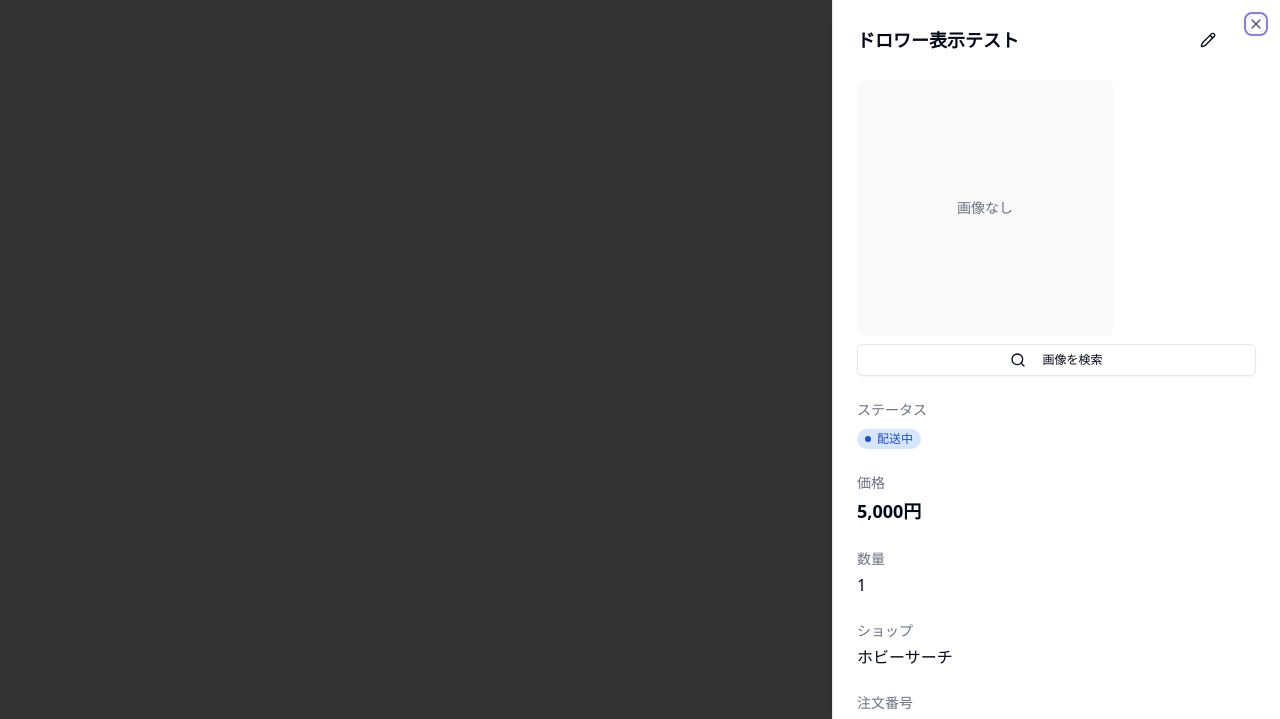
OrderItemDrawer › handleExclude › opens exclude confirmation dialog when exclude button is clicked
The image size is (1280, 719).
Click the button titled "編集" at point(1208, 40), box [1192,24,1224,56]
(page scrolled)
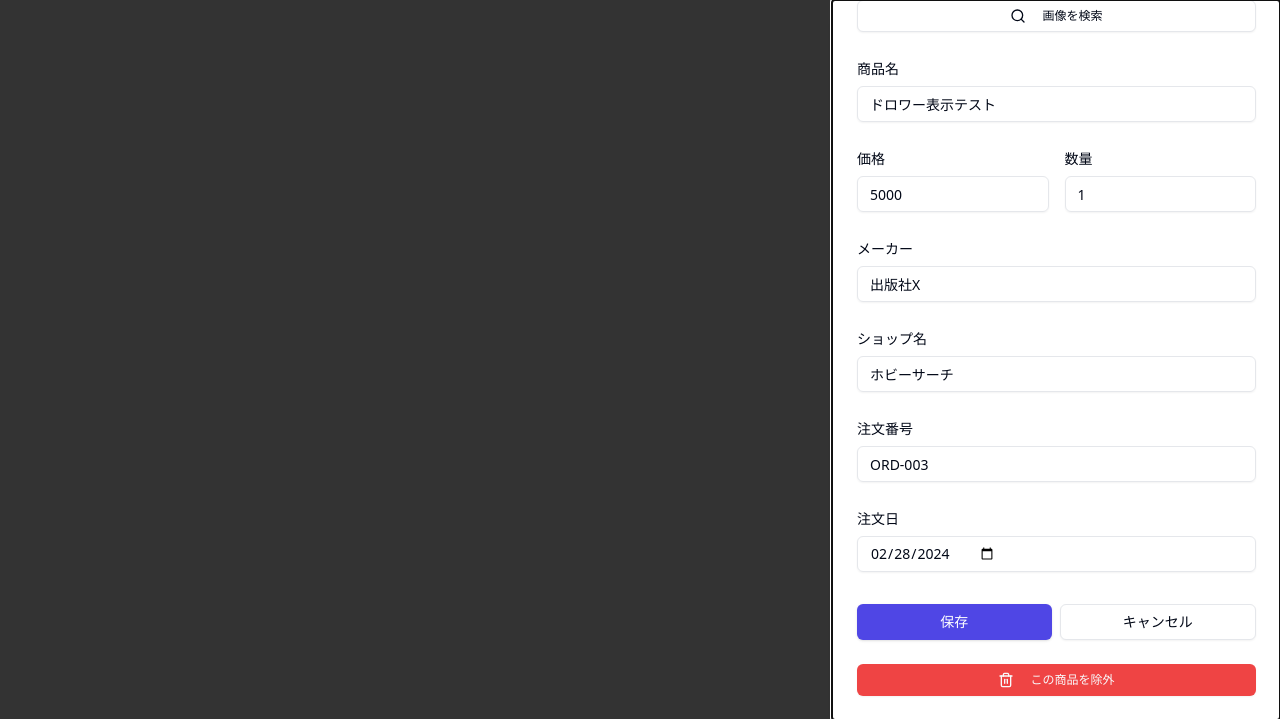
Click the button "この商品を除外" at point(1056, 680), box [857,664,1256,696]
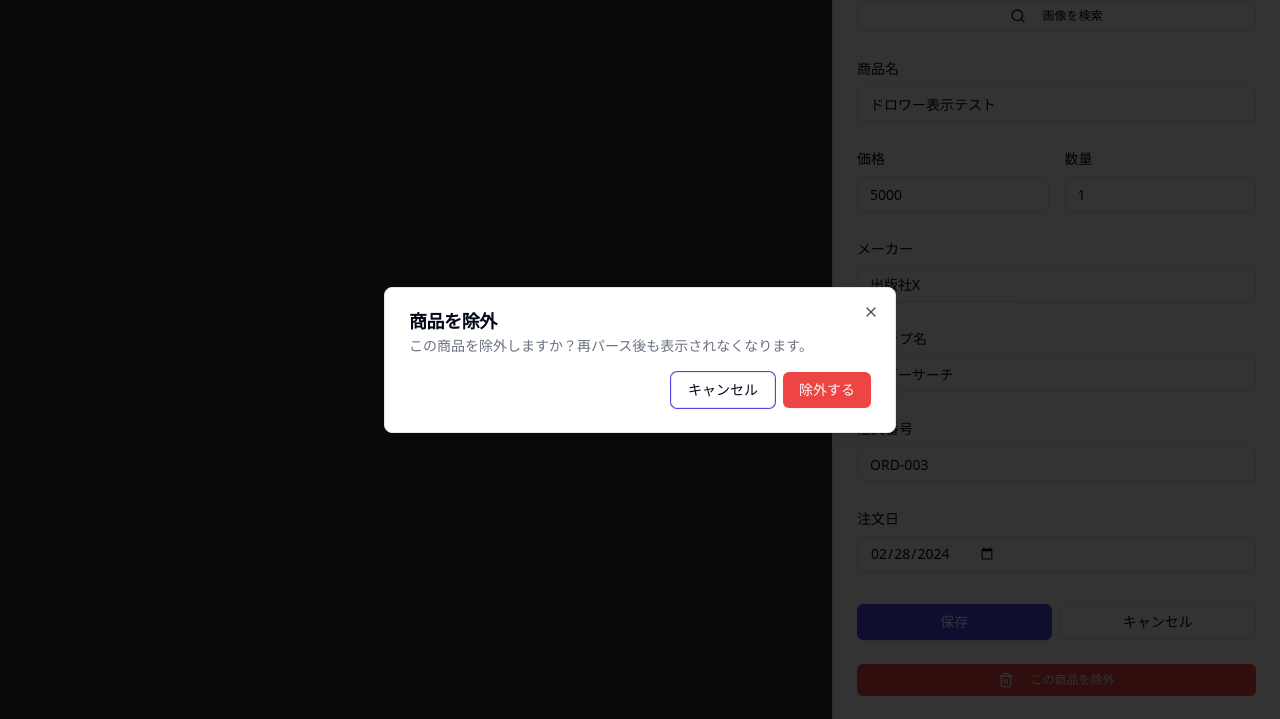
Result: the heading "商品を除外" is shown at [409,309,497,333]
Result: the text "この商品を除外しますか？再パース後も表示されなくなります。" is shown at [409,336,871,356]
